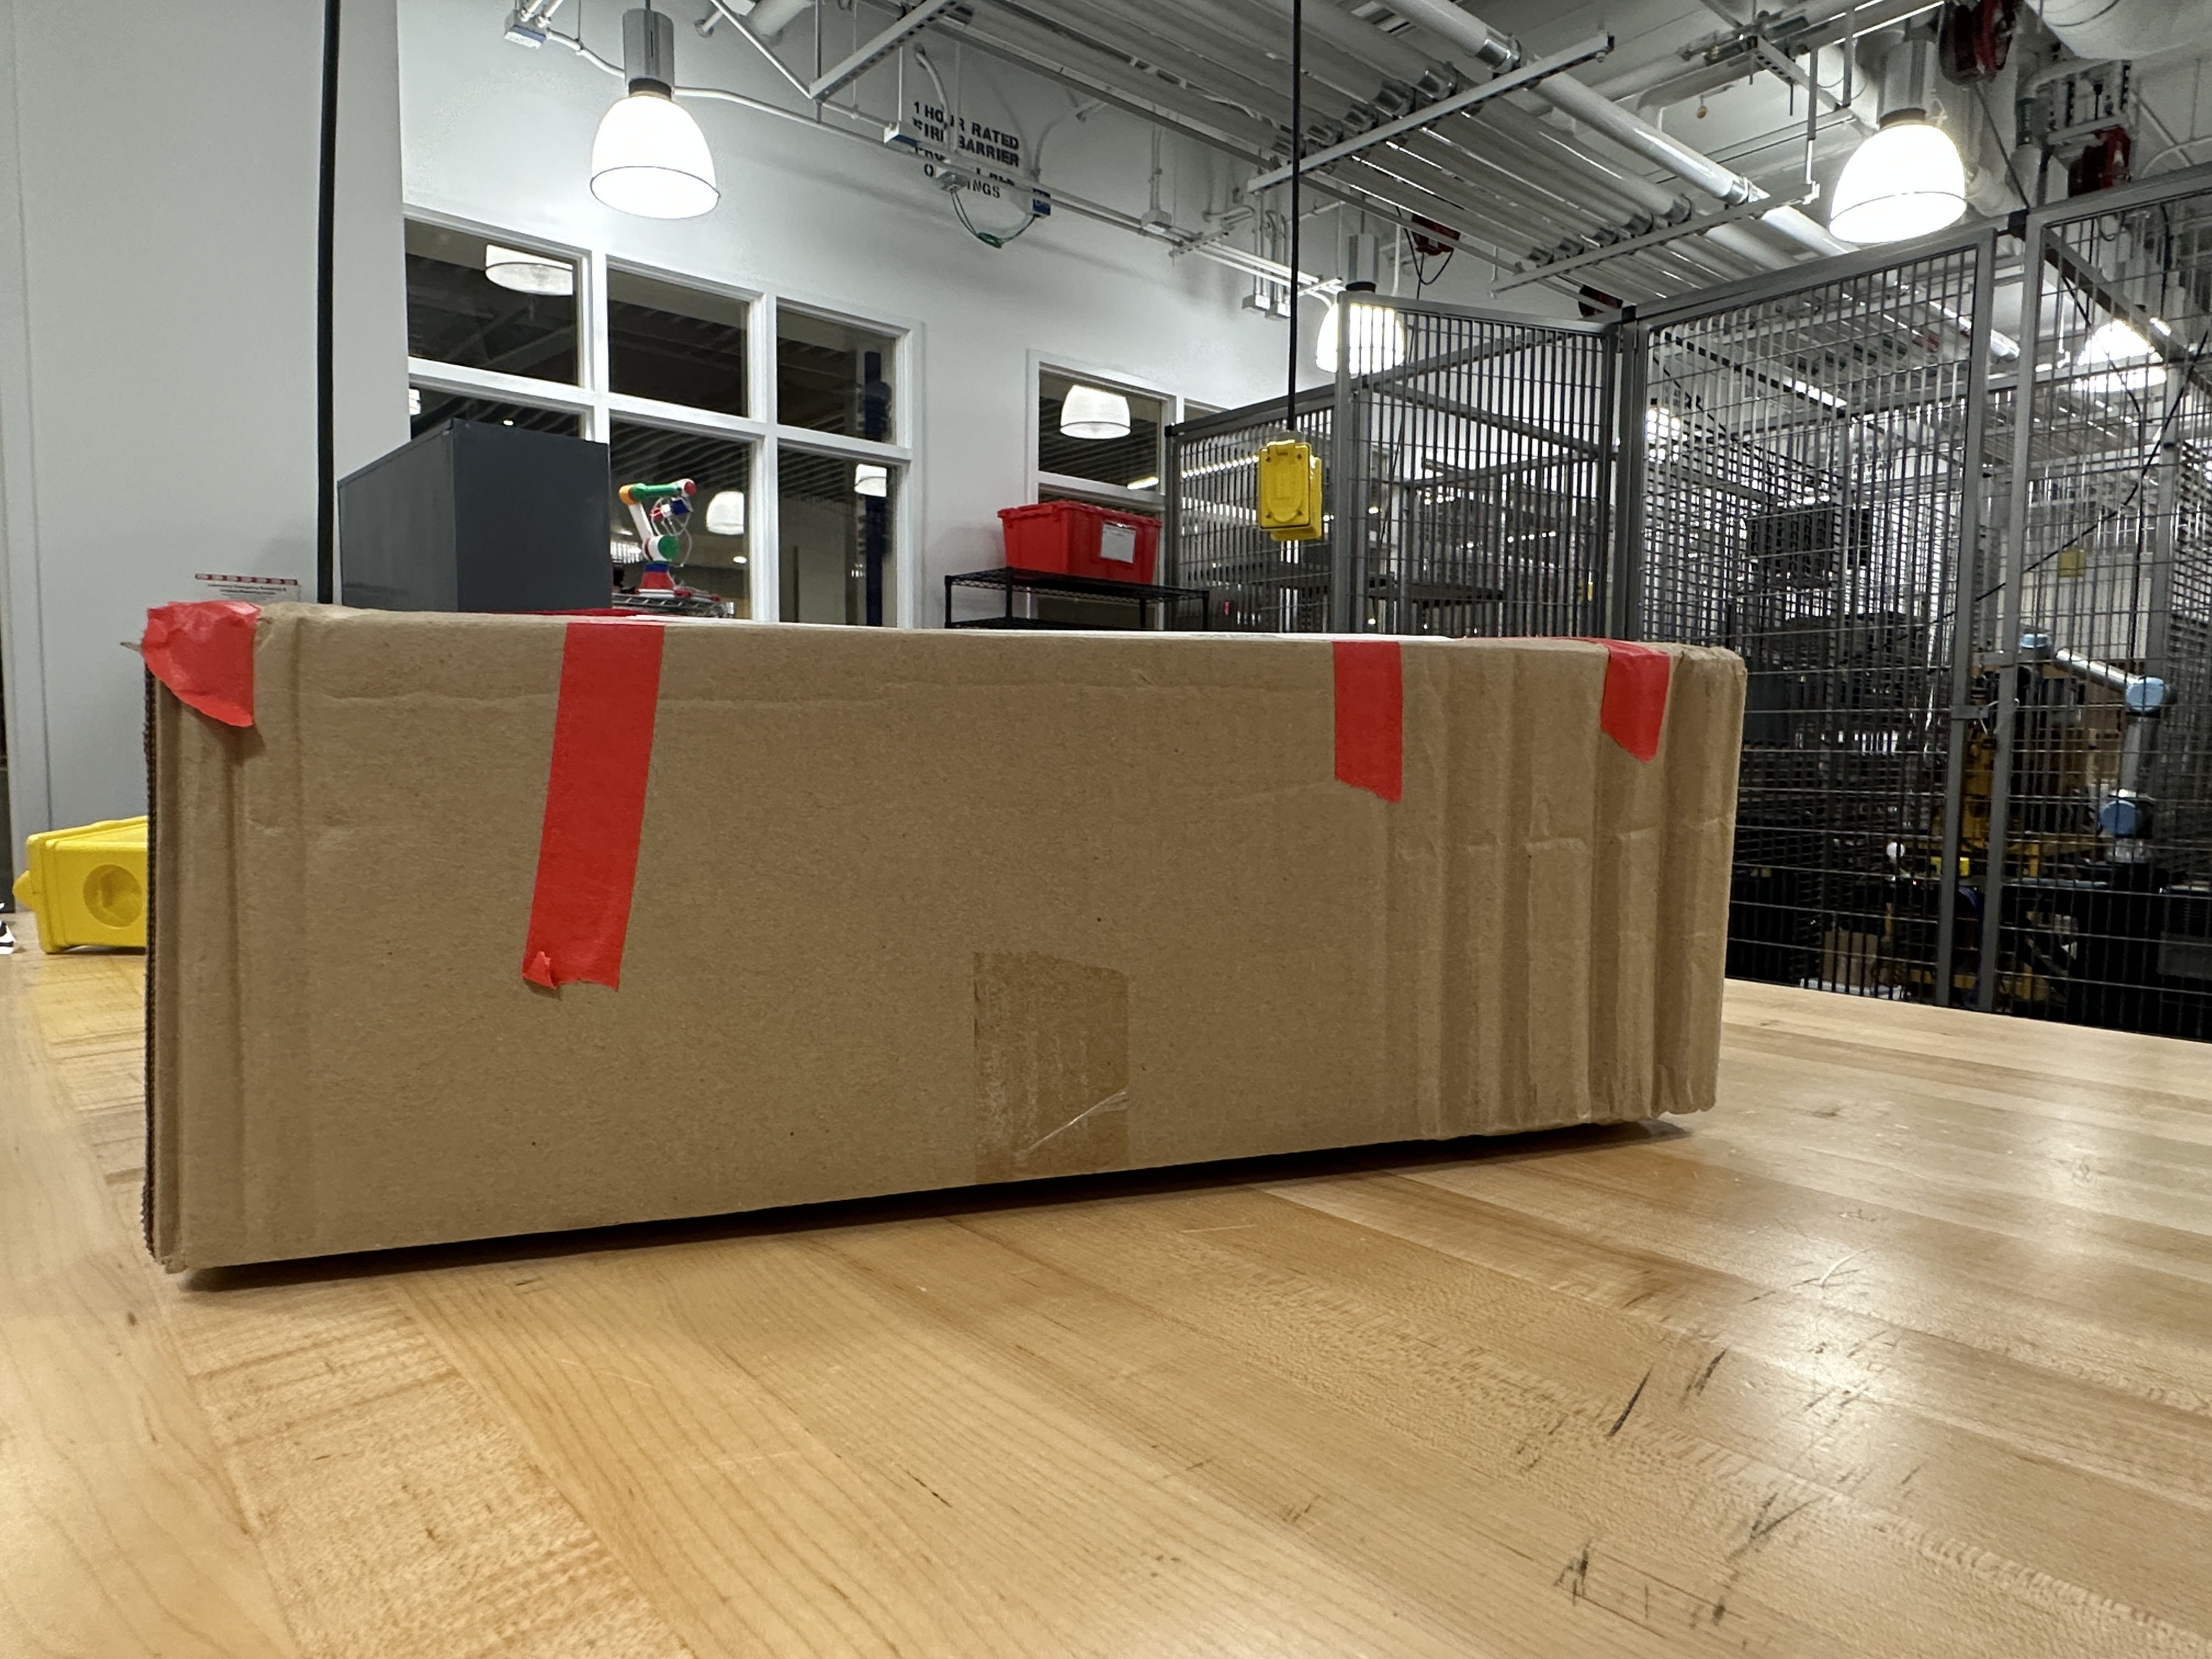Box_Obstacle: (111, 573, 1764, 1298)
